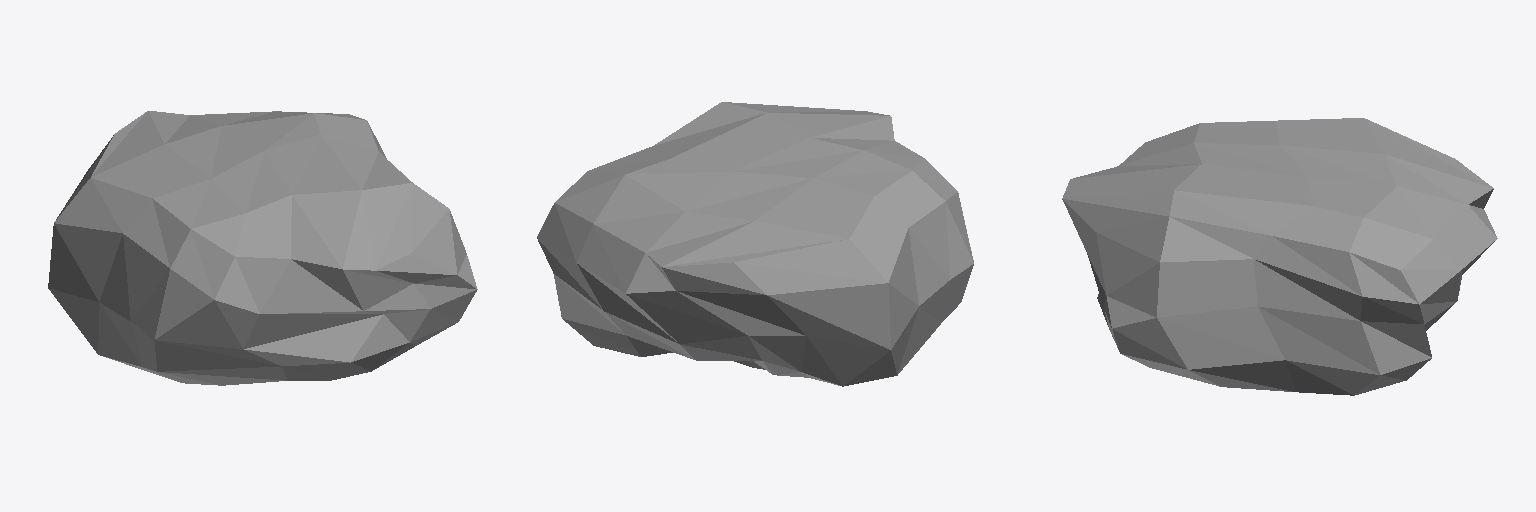
Rendered from Rock1.obj.
3 renders of one model, left to right at view 1: azimuth 30°, elevation 25°; view 2: azimuth 150°, elevation 25°; view 3: azimuth 270°, elevation 25°, orthographic.
Visible parts, largest first — view 1: Cube; view 2: Cube; view 3: Cube.
Part boxes in pixels (left/top/right/bottom): Cube: left=48, top=111, right=477, bottom=385; Cube: left=537, top=102, right=973, bottom=386; Cube: left=1062, top=118, right=1497, bottom=395.
Size of the model in its own units: 0.3608 by 0.1908 by 0.4112.